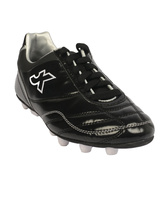shoes: (9, 30, 160, 154)
